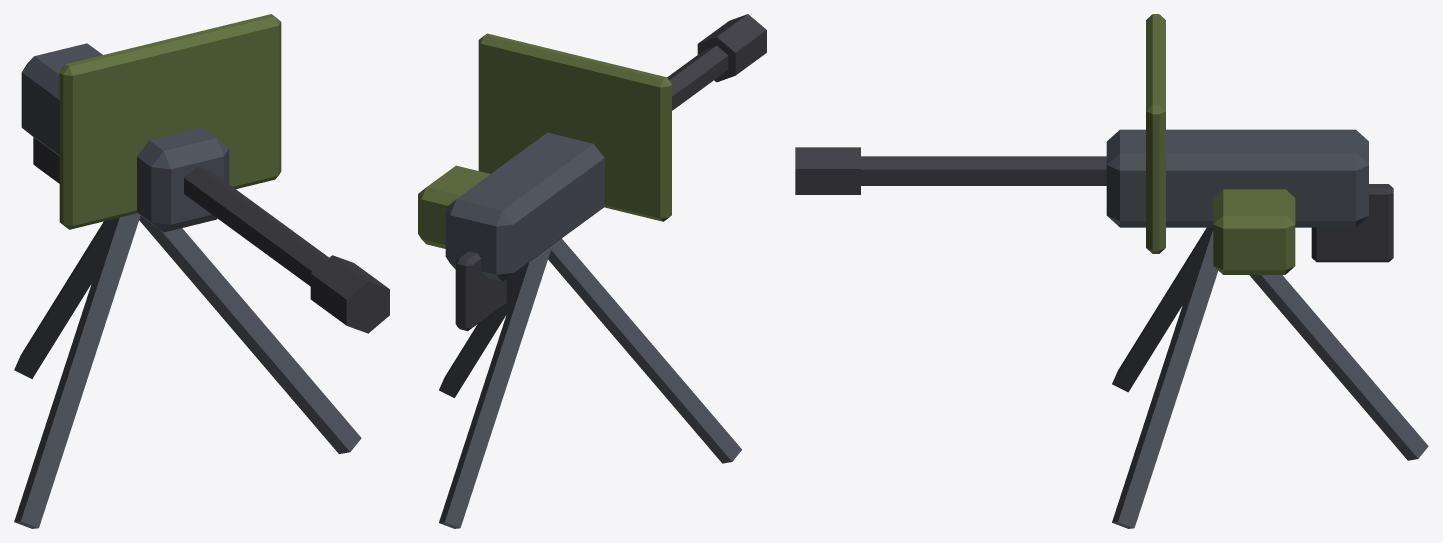
File: MachineGunTurret.fbx
The picture shows the model from 3 angles, left to right: view 1: azimuth 30°, elevation 25°; view 2: azimuth 150°, elevation 25°; view 3: azimuth 270°, elevation 25°; orthographic projection. The views are drawn at different scales.
Parts seen in each view (by area): view 1: MachineGunTurret_Gun, MachineGunTurret; view 2: MachineGunTurret_Gun, MachineGunTurret; view 3: MachineGunTurret_Gun, MachineGunTurret.
Boxes of the visible parts, x1=… form: MachineGunTurret_Gun: x1=21, y1=14, x2=389, y2=333; MachineGunTurret: x1=14, y1=213, x2=361, y2=528; MachineGunTurret_Gun: x1=418, y1=14, x2=766, y2=331; MachineGunTurret: x1=439, y1=238, x2=741, y2=528; MachineGunTurret_Gun: x1=795, y1=14, x2=1393, y2=274; MachineGunTurret: x1=1112, y1=227, x2=1428, y2=528.
Size of the model in its own units: 2.19 by 2.7 by 3.86.
1 material, 1 textured.
